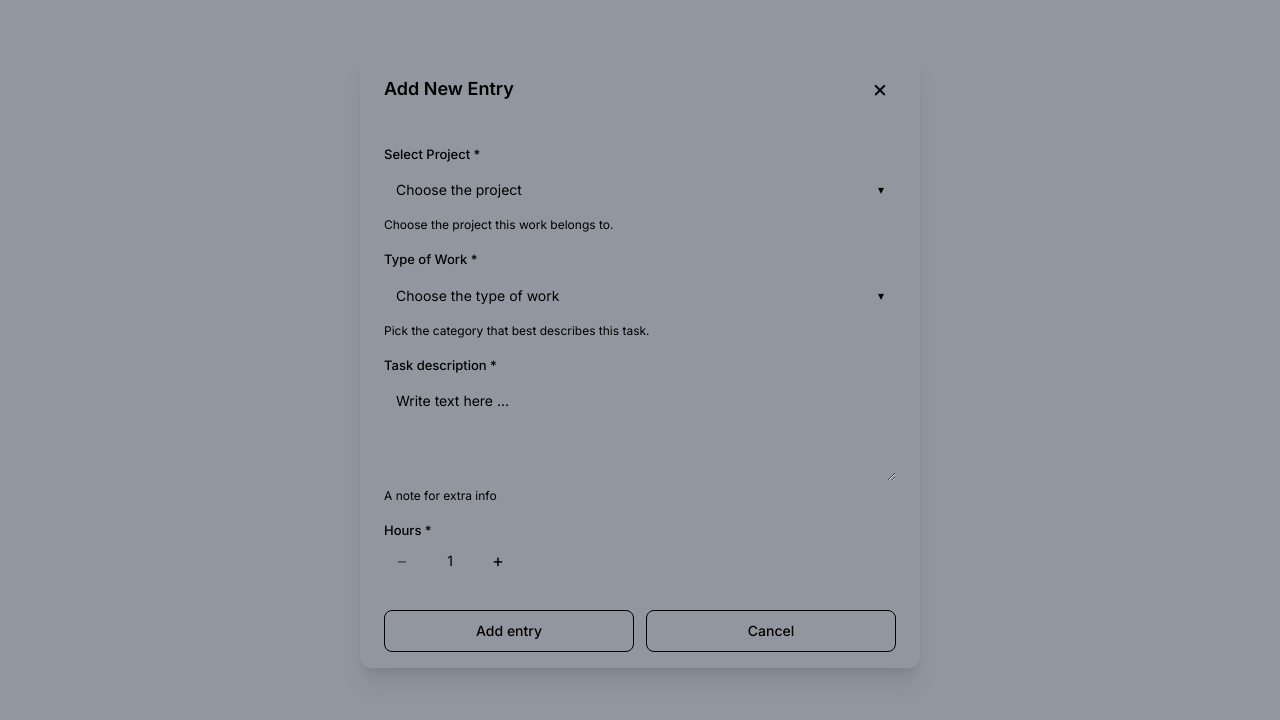
EntryModal › shows validation errors on empty submit
Step 1. Click the button "Add entry" → coordinates (509, 630), box top-left (384, 610), bottom-right (634, 652)
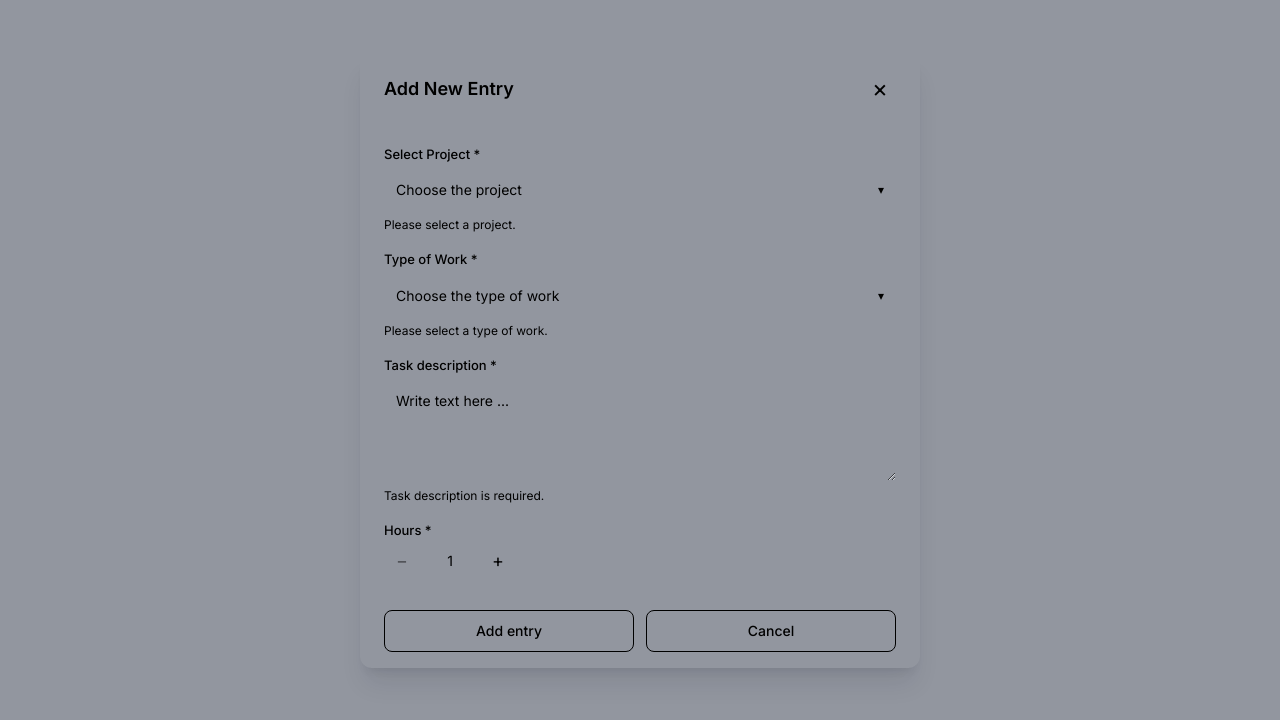
Expected: the text "Please select a project." is shown, top-left (384, 217), bottom-right (516, 232)
Expected: the text "Please select a type of work." is shown, top-left (384, 322), bottom-right (548, 338)
Expected: the text "Task description is required." is shown, top-left (384, 488), bottom-right (544, 503)
